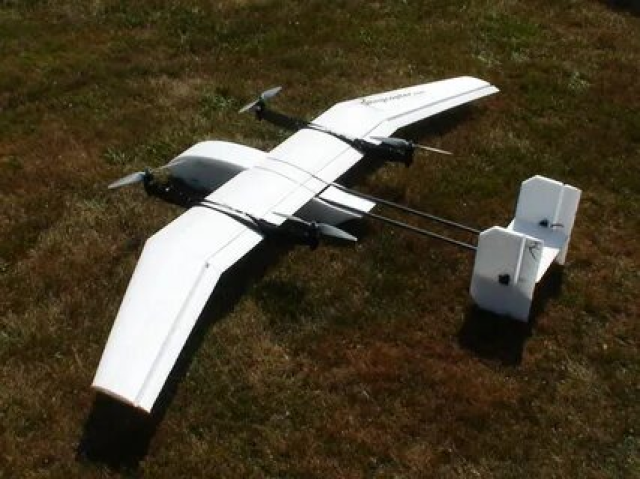military drone: (91, 75, 582, 414)
